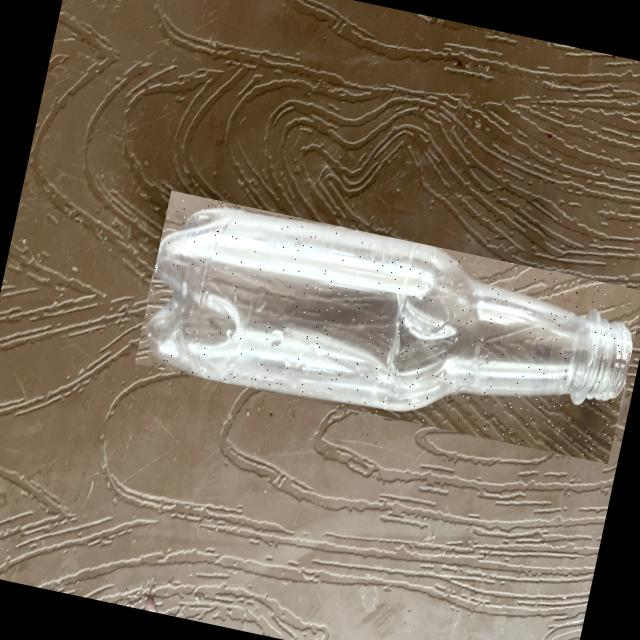PET_With_Liquid: (148, 208, 630, 409)
